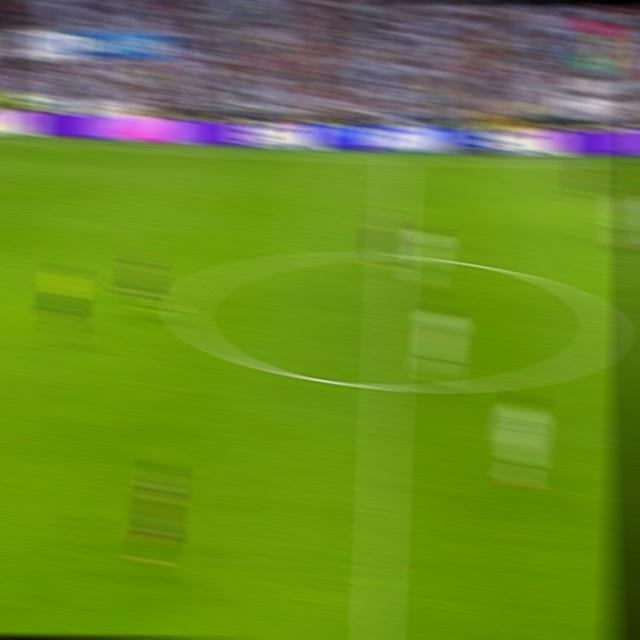halfcircle_bottom: (371, 364, 403, 406)
halfcircle_top: (378, 238, 406, 272)
midline_bottom_intersection: (371, 366, 403, 406)
midline_top_intersection: (384, 150, 410, 170)
